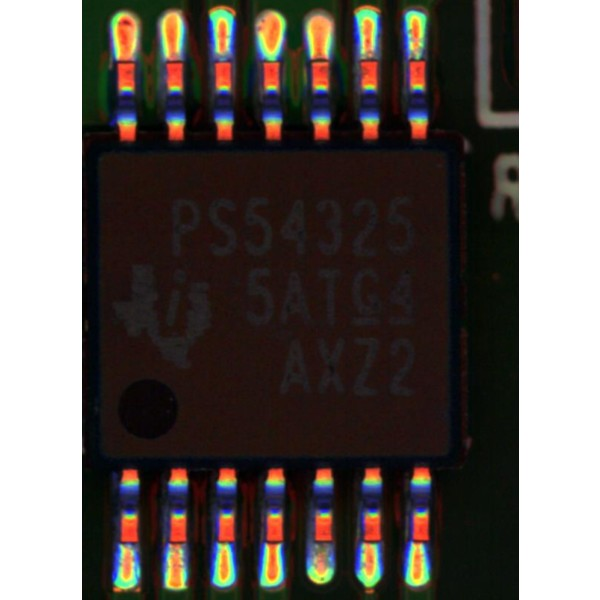Bad_podu: (363, 528, 379, 557), (169, 528, 183, 559), (362, 43, 376, 74), (120, 44, 133, 77), (412, 526, 425, 558), (123, 530, 135, 564), (166, 45, 179, 75), (267, 527, 280, 556), (315, 43, 326, 75)
